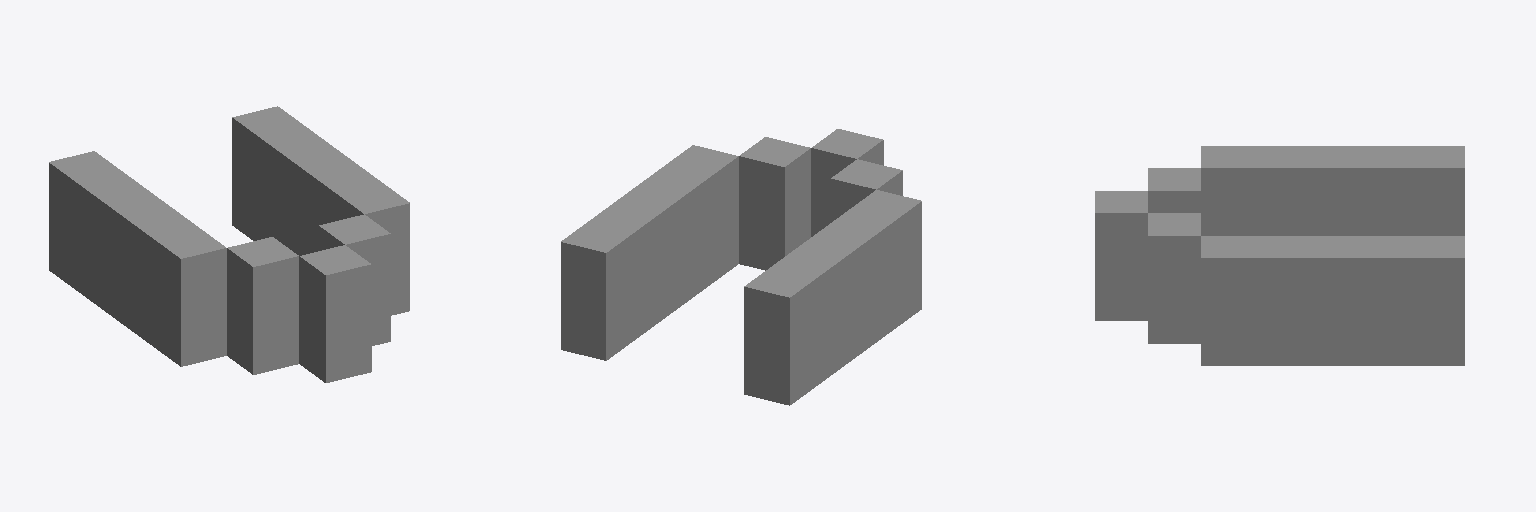
The picture shows the model from 3 angles: view 1: azimuth 30°, elevation 25°; view 2: azimuth 150°, elevation 25°; view 3: azimuth 270°, elevation 25°; orthographic projection.
Visible parts, largest first — view 1: V_CUABC.022; view 2: V_CUABC.022; view 3: V_CUABC.022.
Part boxes in pixels (x1,y1,x2,y2): V_CUABC.022: (49,106,409,382); V_CUABC.022: (561,129,921,405); V_CUABC.022: (1095,146,1464,365).
Bounding box in the file's own units: 0.5556 × 0.25 × 0.7778.